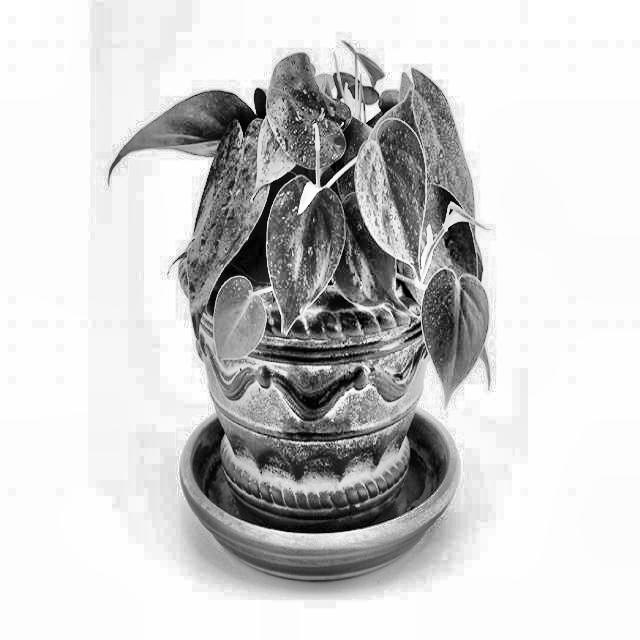plants: (126, 42, 501, 520)
